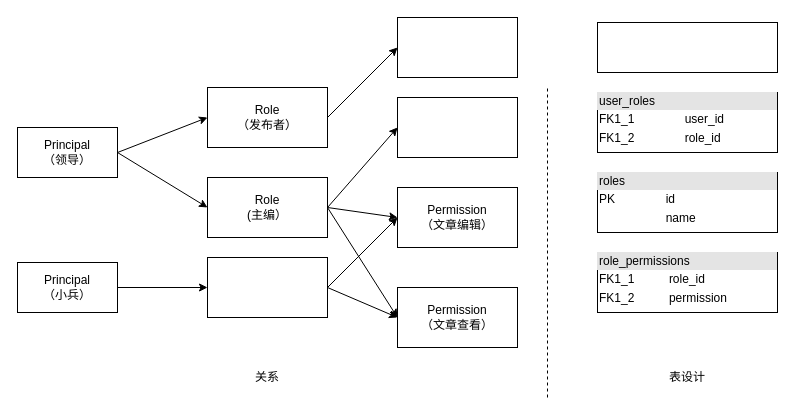
The diagram is 795 pixels wide and 416 high, and some of its shapes have lost their labels. The centre of each missing label's shape, as x and y in pixels:
"Permission （文章发布）" goes at pixel 457 47.
"Permission （文章审批）" goes at pixel 457 127.
"Role （小编）" goes at pixel 267 287.
"users PK id" goes at pixel 687 47.
